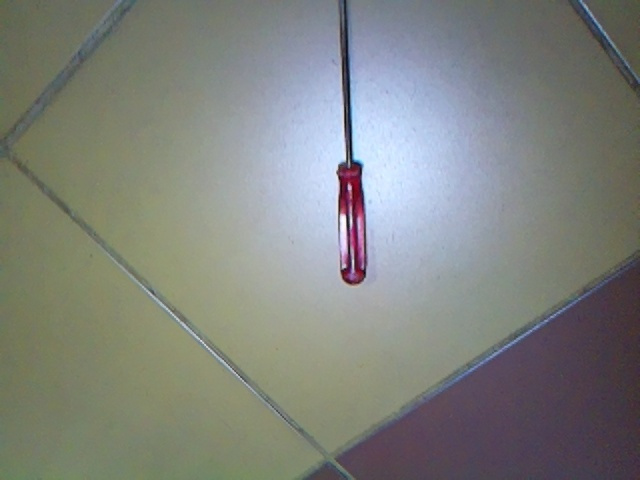redskrew: (323, 1, 374, 285)
